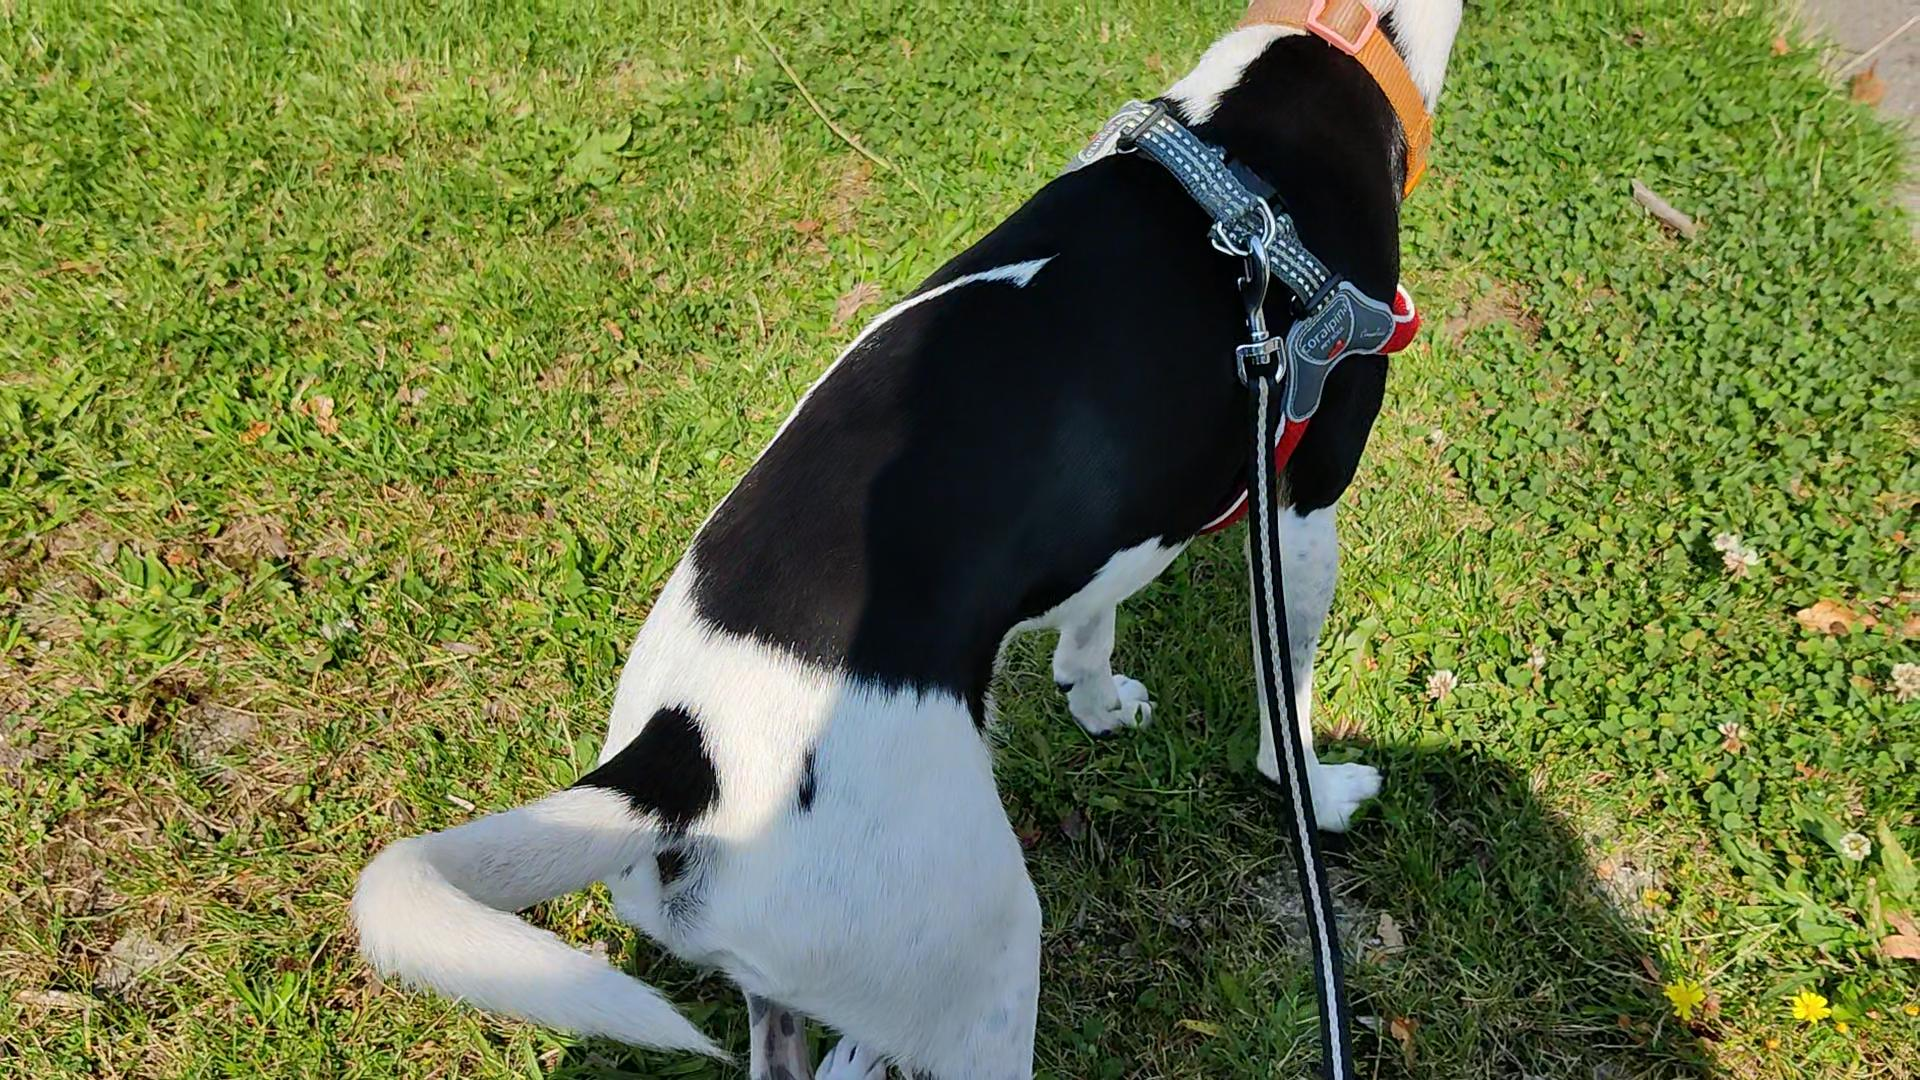Dog: (345, 0, 1474, 1079)
